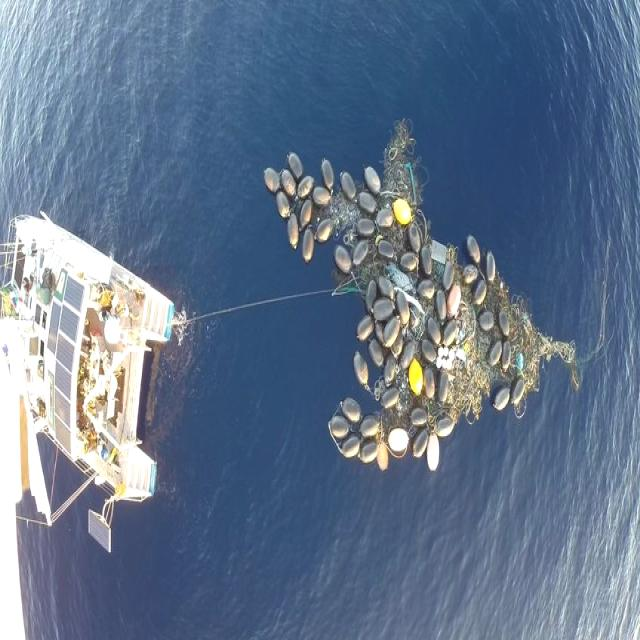plastic watse: (265, 123, 578, 467)
